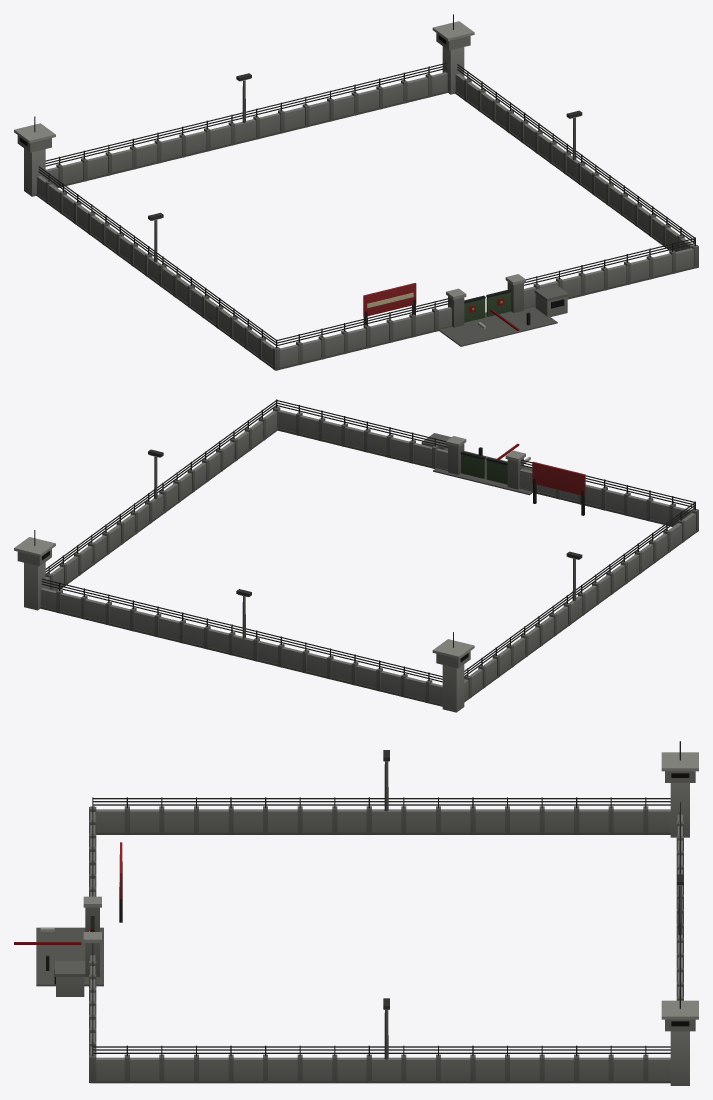
File: m_barracks_c49a9647.glb
3 renders of one model, top to bottom at view 1: azimuth 30°, elevation 25°; view 2: azimuth 150°, elevation 25°; view 3: azimuth 270°, elevation 25°, orthographic. The views are drawn at different scales.
Visible parts, largest first — view 1: mesh; view 2: mesh; view 3: mesh.
Boxes of the visible parts, box(x1,y1,x2,y2) form: mesh: box(14, 14, 698, 370); mesh: box(14, 399, 698, 712); mesh: box(14, 741, 698, 1085).
Bounding box in the file's own units: 111 × 18 × 121.
